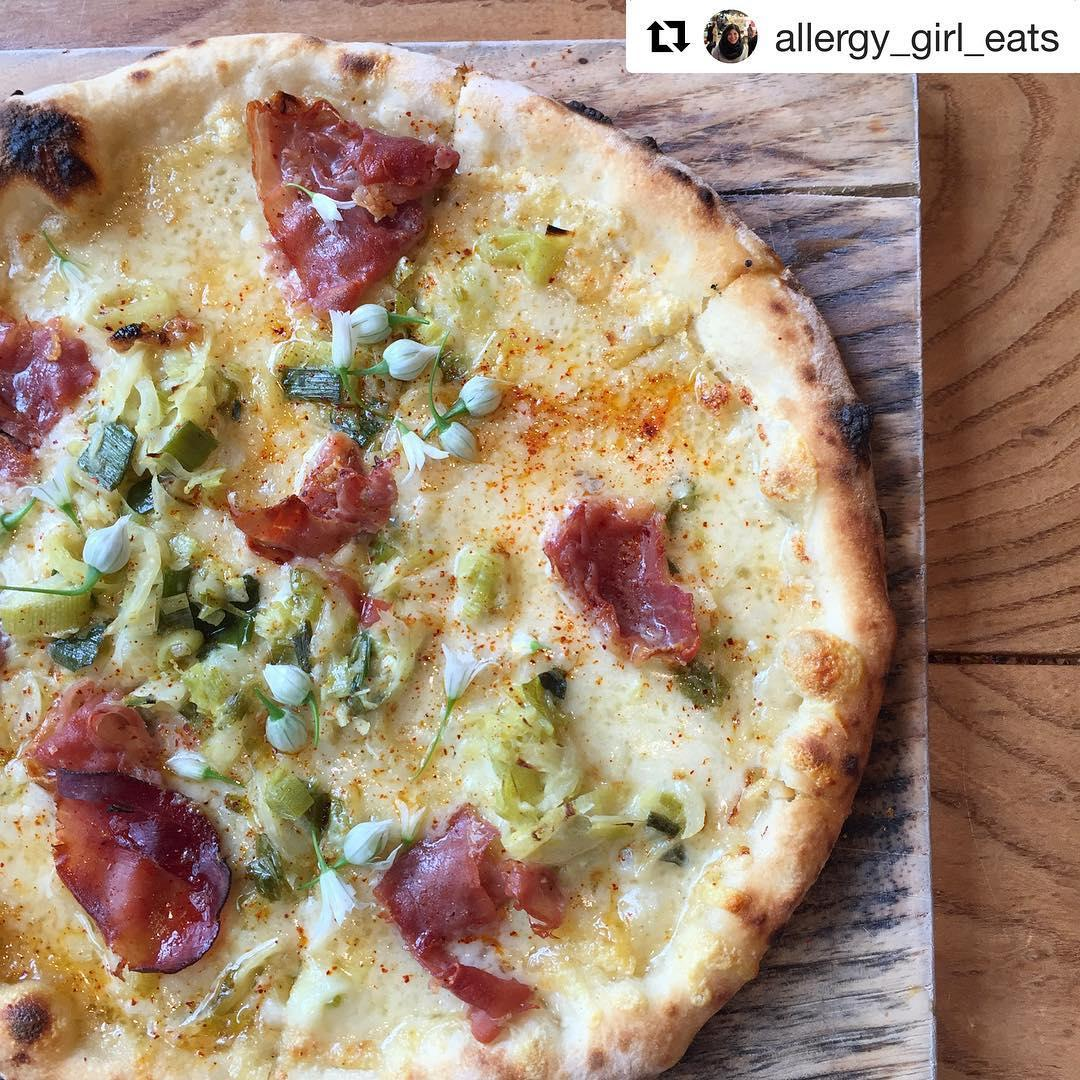Ham: (245, 95, 458, 308), (0, 318, 95, 500)
Pizza: (0, 43, 892, 1080)
